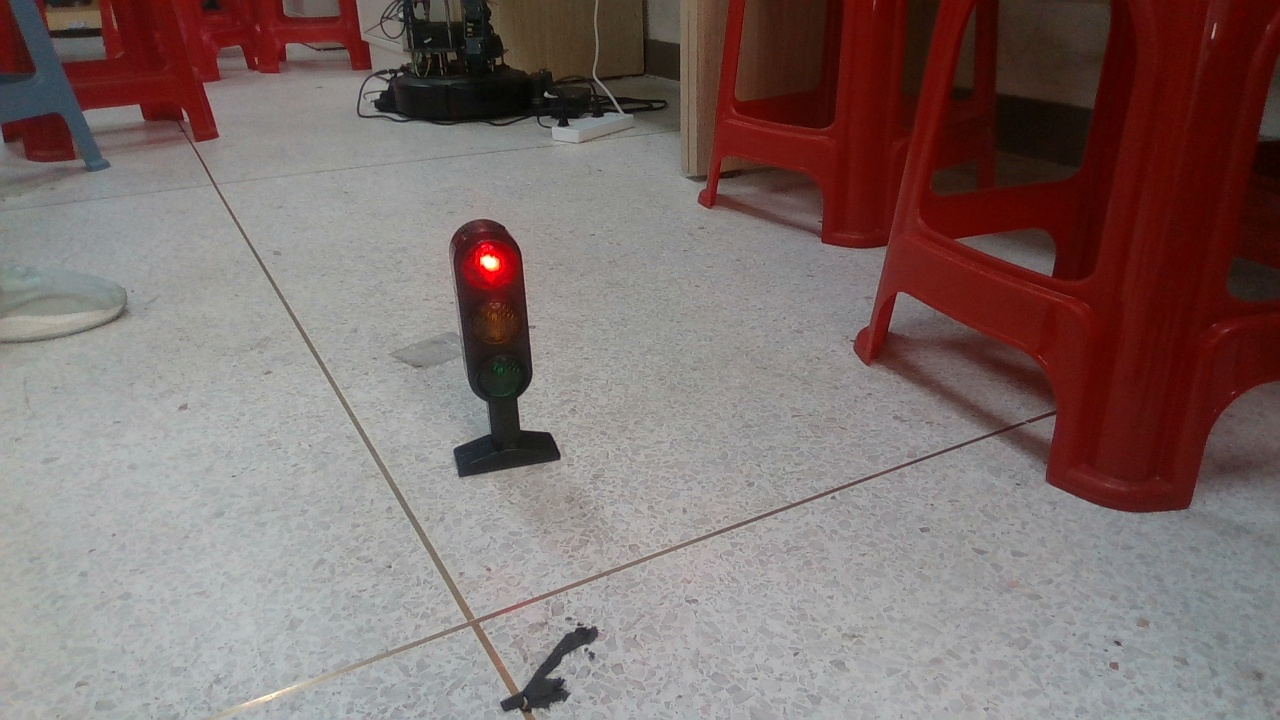Red traffic light: (433, 216, 563, 481)
